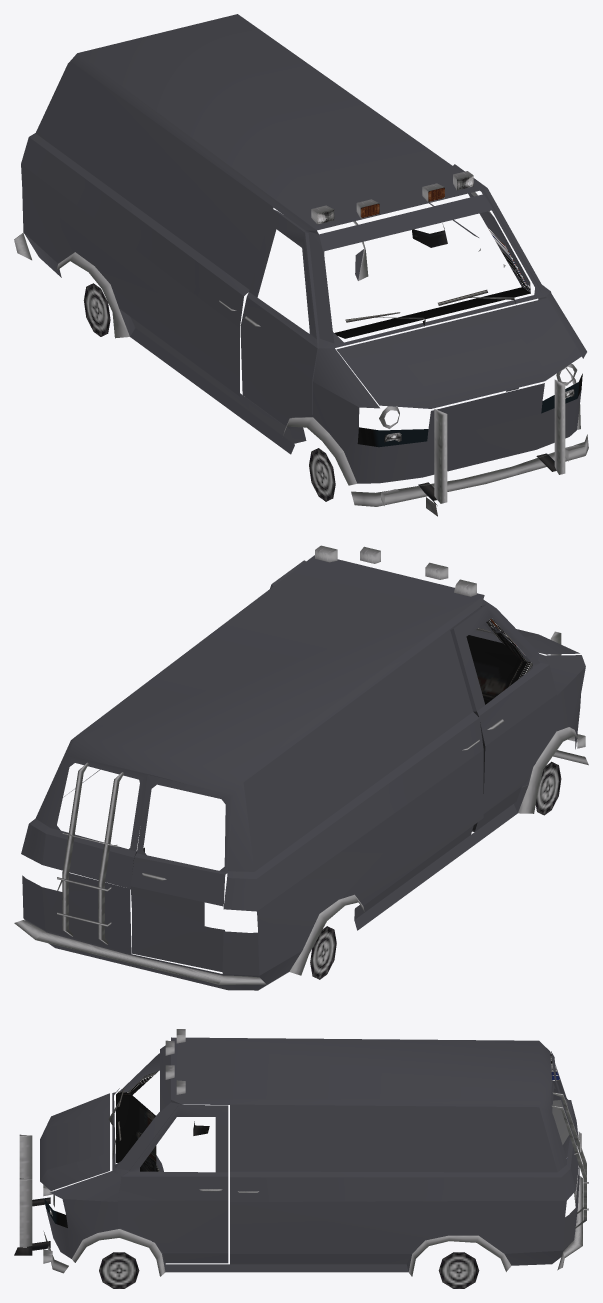
The model's file is car-HEVY_Car5.glb.
The picture shows the model from 3 angles, top to bottom: view 1: azimuth 30°, elevation 25°; view 2: azimuth 150°, elevation 25°; view 3: azimuth 270°, elevation 25°; orthographic projection. The views are drawn at different scales.
Parts seen in each view (by area): view 1: HEVY_Car5; view 2: HEVY_Car5; view 3: HEVY_Car5.
Part boxes in pixels (left/top/right/bottom): HEVY_Car5: left=14, top=14, right=588, bottom=516; HEVY_Car5: left=14, top=545, right=588, bottom=990; HEVY_Car5: left=14, top=1029, right=588, bottom=1288.
Size of the model in its own units: 2.23 by 2.09 by 5.72.
19 materials, 19 textured.
